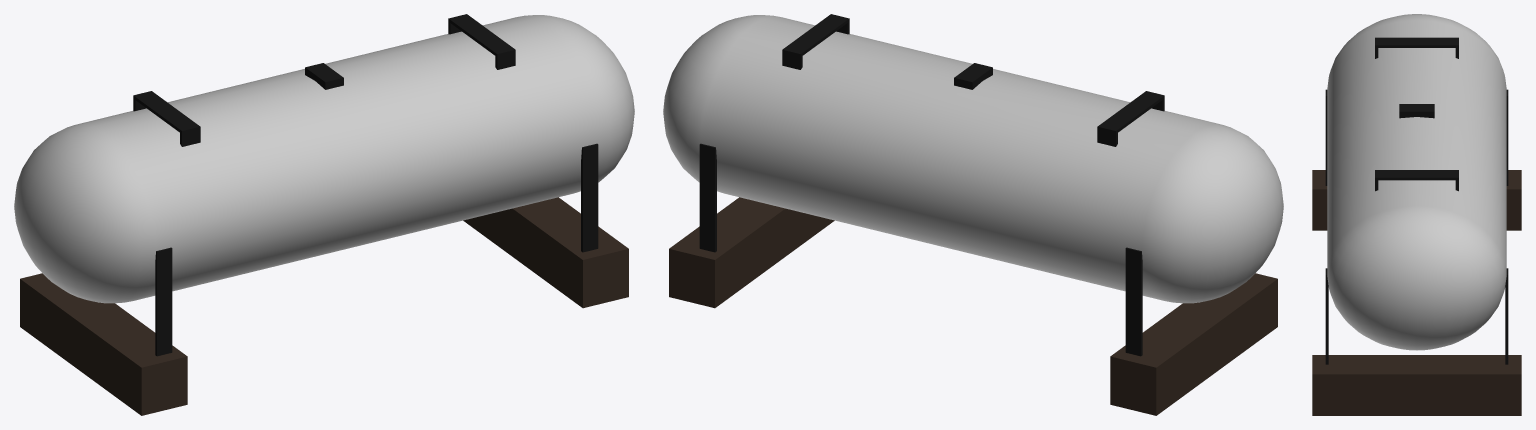
The model's file is MSH_Tanque_Gas.FBX.
The picture shows the model from 3 angles, left to right: view 1: azimuth 30°, elevation 25°; view 2: azimuth 150°, elevation 25°; view 3: azimuth 270°, elevation 25°; orthographic projection. The views are drawn at different scales.
Parts seen in each view (by area): view 1: MSH_Tanque_Gas; view 2: MSH_Tanque_Gas; view 3: MSH_Tanque_Gas.
Boxes of the visible parts, <box> form: MSH_Tanque_Gas: <box>14,14,634,415</box>; MSH_Tanque_Gas: <box>663,14,1283,415</box>; MSH_Tanque_Gas: <box>1312,14,1521,415</box>.
Size of the model in its own units: 382 by 149 by 137.
